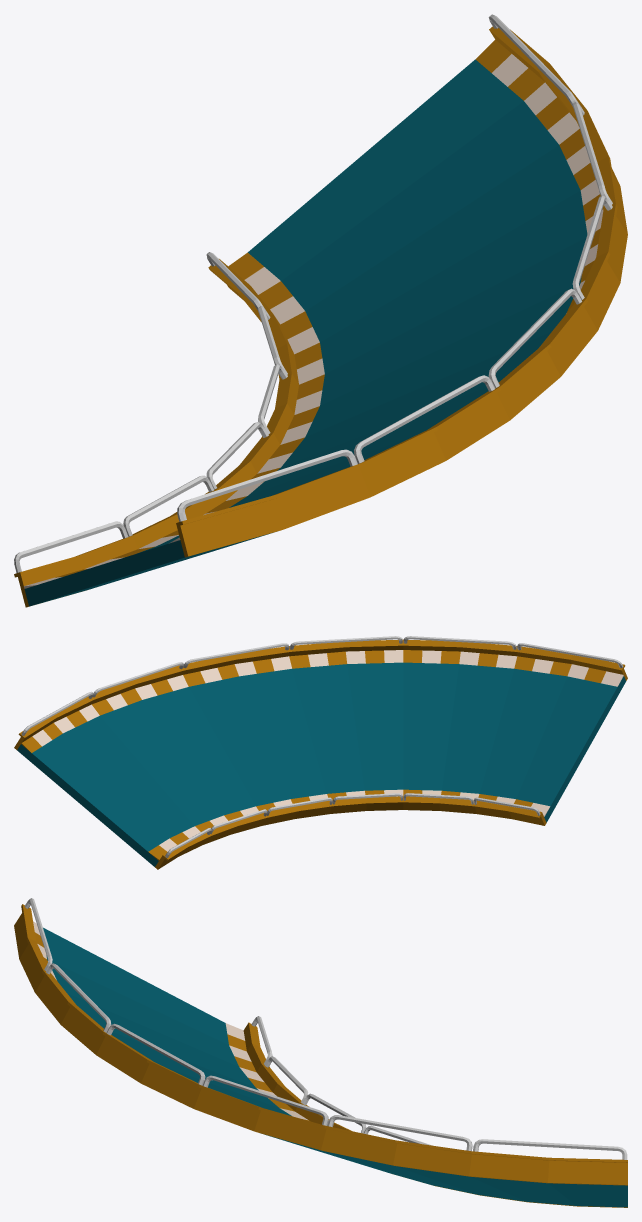
File: bankedLeft-90-30_l.FBX
3 renders of one model, top to bottom at view 1: azimuth 30°, elevation 25°; view 2: azimuth 150°, elevation 25°; view 3: azimuth 270°, elevation 25°, orthographic. The views are drawn at different scales.
Parts seen in each view (by area): view 1: bankedLeft-90-30_l, wall_r, wall_l, curbs_l, curbs_r; view 2: bankedLeft-90-30_l, wall_r, curbs_r, wall_l, curbs_l; view 3: wall_r, bankedLeft-90-30_l, wall_l, curbs_l.
Part boxes in pixels (x1,y1,x2,y2): bankedLeft-90-30_l: [24, 59, 587, 606]; wall_r: [176, 14, 627, 557]; wall_l: [14, 252, 298, 607]; curbs_l: [24, 252, 324, 588]; curbs_r: [169, 39, 603, 543]; bankedLeft-90-30_l: [17, 662, 626, 866]; wall_r: [14, 636, 627, 749]; curbs_r: [21, 650, 623, 752]; wall_l: [155, 793, 546, 869]; curbs_l: [148, 789, 550, 860]; wall_r: [14, 898, 627, 1185]; bankedLeft-90-30_l: [43, 927, 627, 1207]; wall_l: [243, 1016, 627, 1207]; curbs_l: [225, 1023, 309, 1121].
Size of what is drawn, in the model's own units: 469 by 126 by 469.
